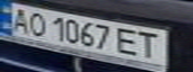0: (63, 17, 81, 45)
1: (45, 15, 66, 42)
6: (78, 20, 96, 48)
7: (93, 22, 115, 52)
A: (3, 4, 33, 34)
E: (112, 25, 145, 56)
O: (24, 9, 48, 37)
T: (133, 29, 169, 60)
